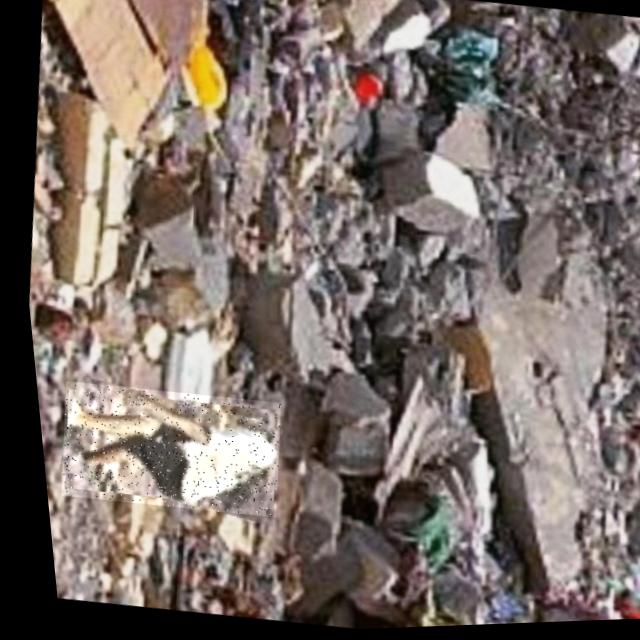Person in Rubble: (41, 375, 280, 526)
